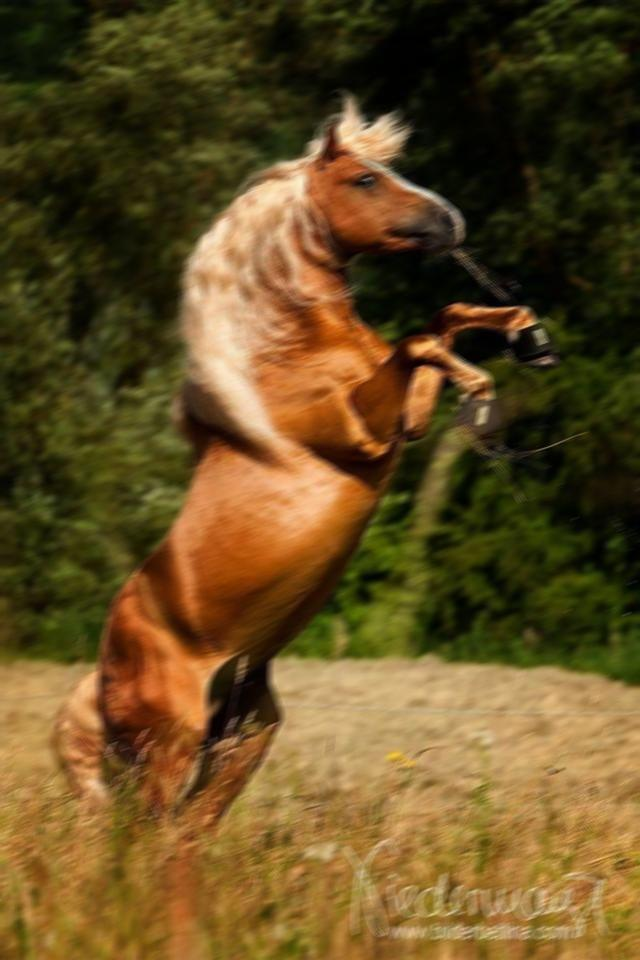horse: (48, 87, 560, 847)
